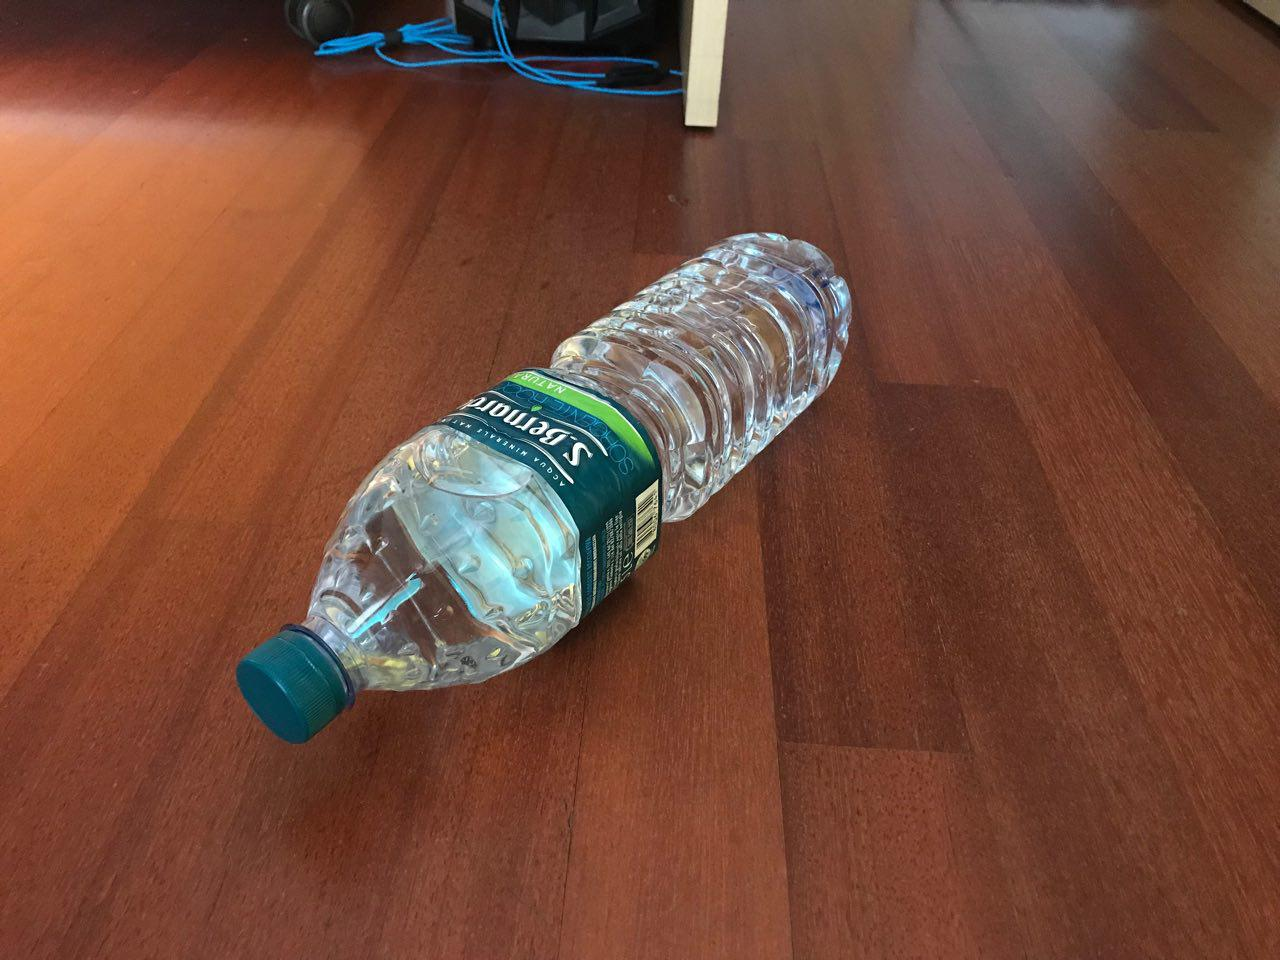san_bernardo: (233, 228, 854, 748)
